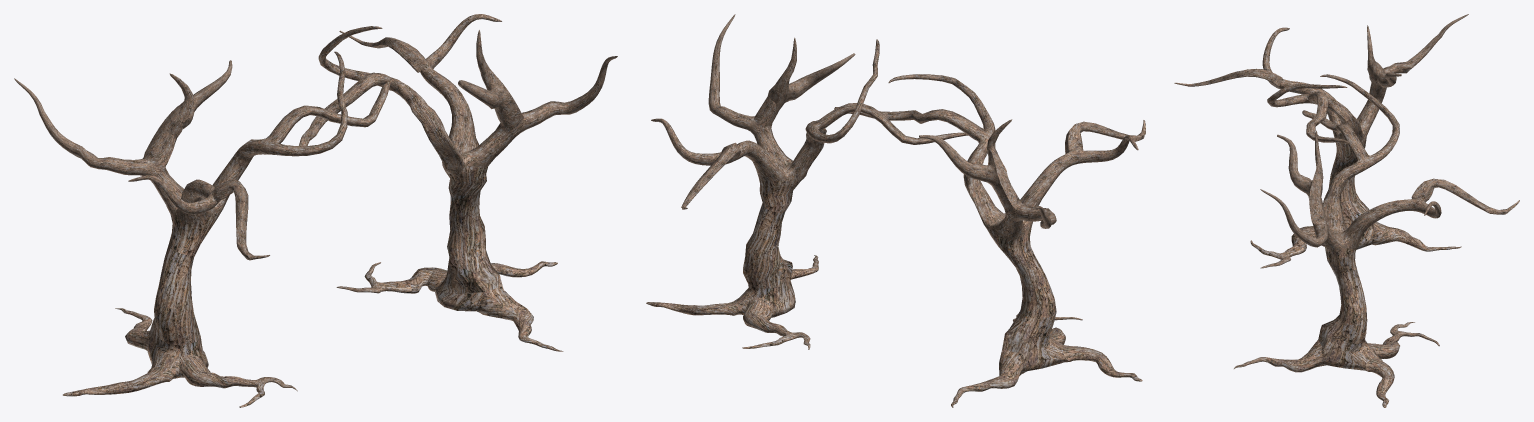
The model's file is TreeEntranceWithoutFlowers.fbx.
3 renders of one model, left to right at view 1: azimuth 30°, elevation 25°; view 2: azimuth 150°, elevation 25°; view 3: azimuth 270°, elevation 25°, orthographic. The views are drawn at different scales.
Visible parts, largest first — view 1: polySurface46, polySurface35; view 2: polySurface35, polySurface46; view 3: polySurface46, polySurface35.
Boxes of the visible parts, left/top/right/bottom form: polySurface46: left=299, top=14, right=617, bottom=351; polySurface35: left=14, top=51, right=393, bottom=407; polySurface35: left=834, top=74, right=1145, bottom=407; polySurface46: left=646, top=14, right=967, bottom=349; polySurface46: left=1234, top=74, right=1519, bottom=407; polySurface35: left=1174, top=14, right=1468, bottom=268.
Size of the model in its own units: 38.12 by 22.24 by 27.83.
Materials: 1 (1 with a texture image).
